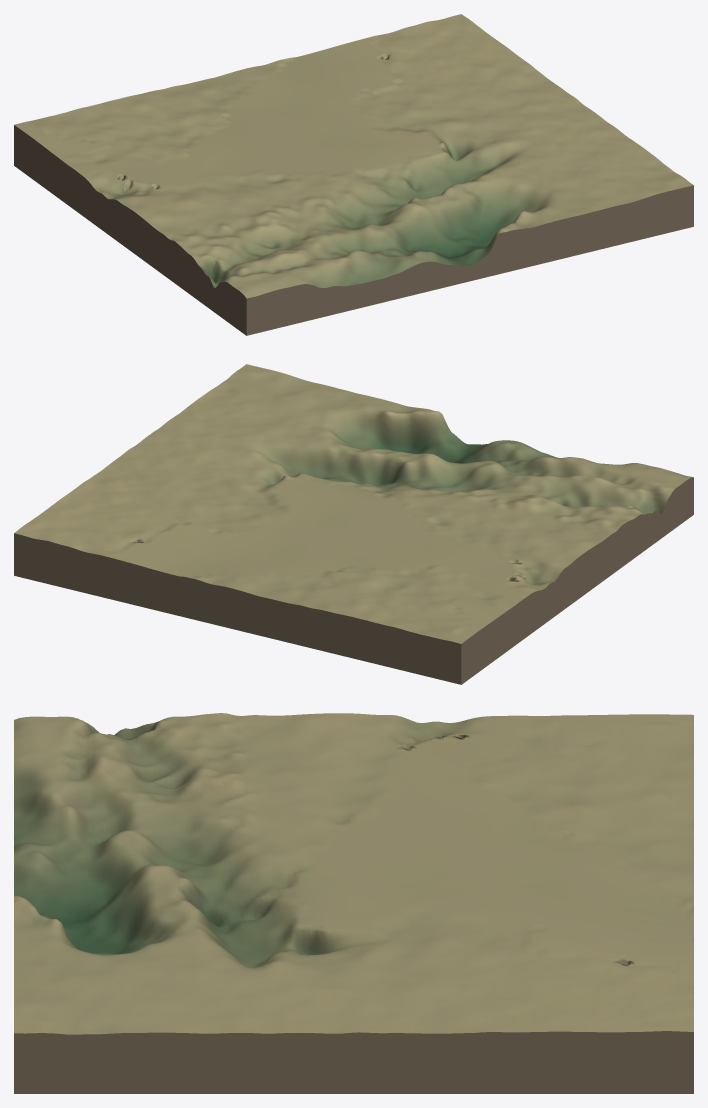
Rendered from terrain3d-victoria-falls.glb.
3 renders of one model, top to bottom at view 1: azimuth 30°, elevation 25°; view 2: azimuth 150°, elevation 25°; view 3: azimuth 270°, elevation 25°, orthographic. The views are drawn at different scales.
Visible parts, largest first — view 1: Measured elevation surface, Opaque geographic crop sides; view 2: Measured elevation surface, Opaque geographic crop sides; view 3: Measured elevation surface, Opaque geographic crop sides.
Boxes of the visible parts, x1=… form: Measured elevation surface: x1=14, y1=14, x2=693, y2=298; Opaque geographic crop sides: x1=14, y1=125, x2=693, y2=335; Measured elevation surface: x1=14, y1=364, x2=692, y2=643; Opaque geographic crop sides: x1=14, y1=477, x2=693, y2=684; Measured elevation surface: x1=14, y1=713, x2=693, y2=1034; Opaque geographic crop sides: x1=14, y1=1031, x2=693, y2=1093.
Bounding box in the file's own units: 2000 × 186 × 1800.
Materials: 2 (1 with a texture image).
